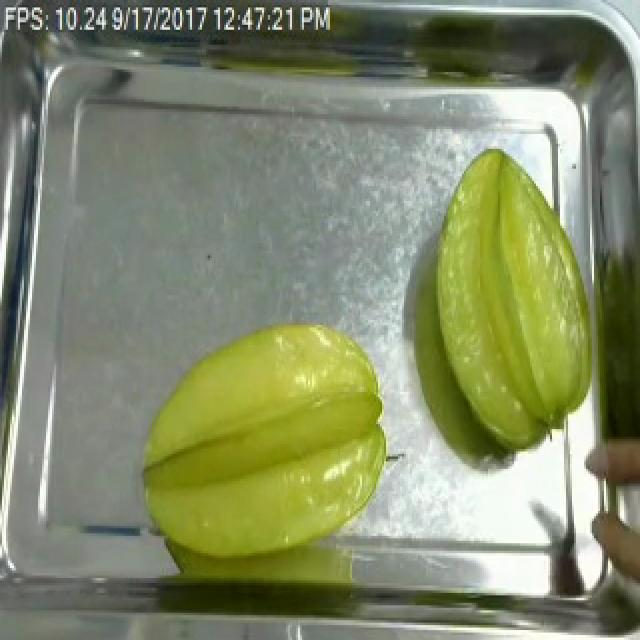fruit: (126, 310, 402, 576), (424, 136, 602, 466)
